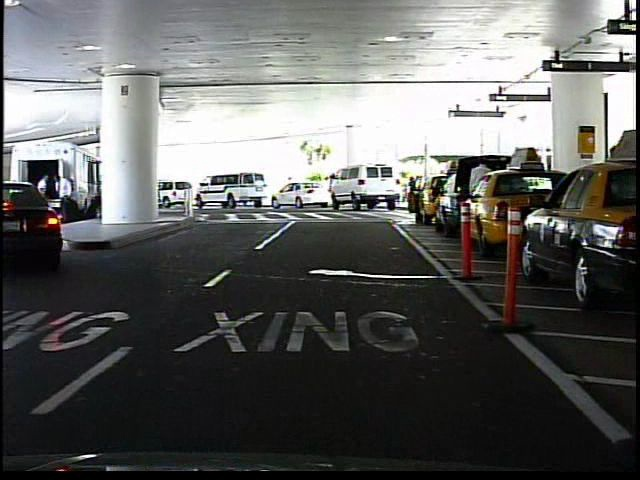person: (463, 155, 495, 239), (404, 174, 420, 208), (282, 173, 297, 204)
